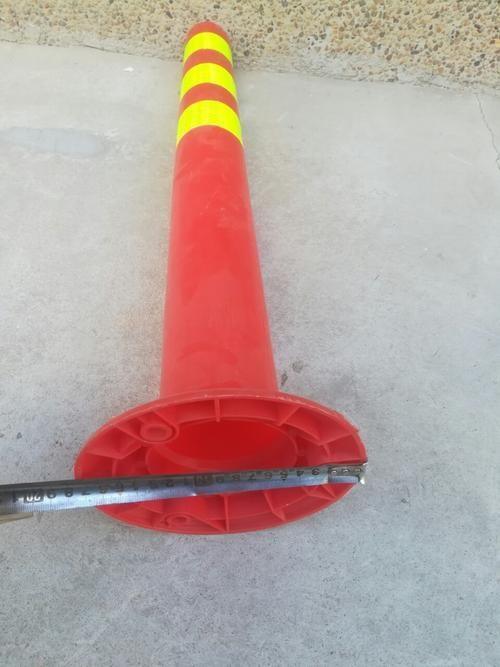cone_barrel: (134, 17, 309, 469)
